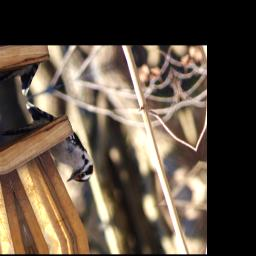Woodpecker: (0, 87, 97, 206)
